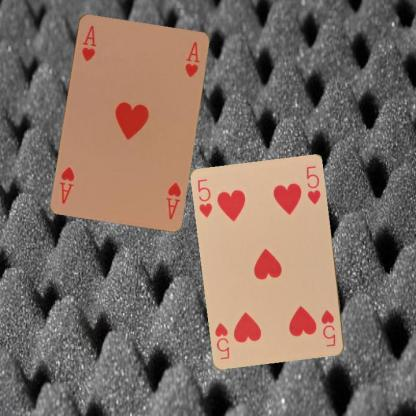5h: (195, 176, 214, 219), (319, 308, 337, 348)
Ah: (78, 22, 98, 62), (164, 179, 182, 220)
